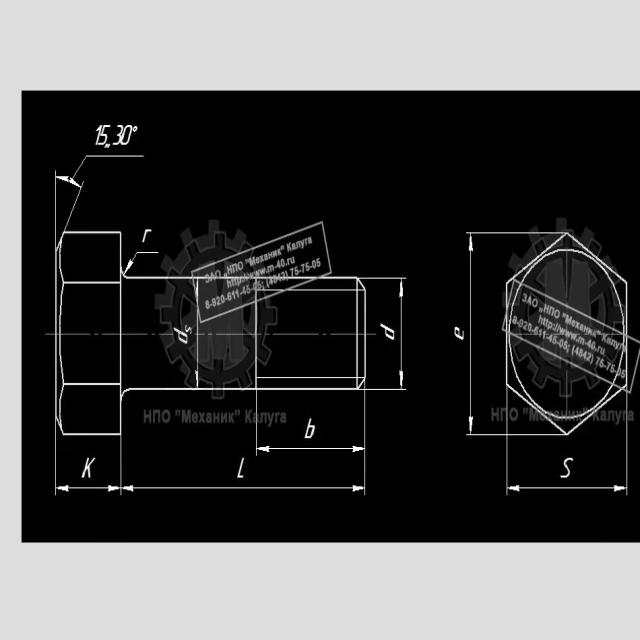marking_line: (119, 438, 367, 495), (466, 230, 507, 438), (503, 437, 631, 495), (254, 393, 367, 456), (367, 275, 407, 392), (54, 438, 125, 496), (52, 166, 85, 230), (124, 246, 160, 275), (193, 281, 201, 386)
numeric: (122, 124, 133, 146), (100, 124, 110, 147), (114, 124, 124, 145), (95, 123, 101, 145)
special_symbol: (71, 154, 145, 178)
